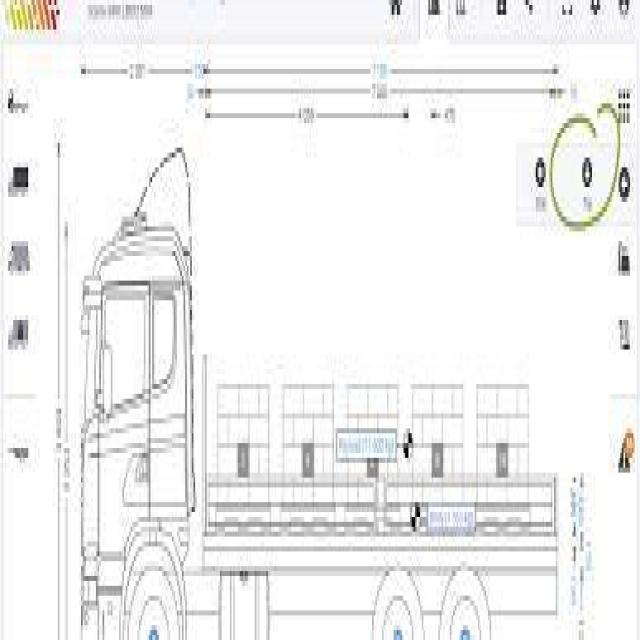Tanks: (66, 54, 566, 620)
